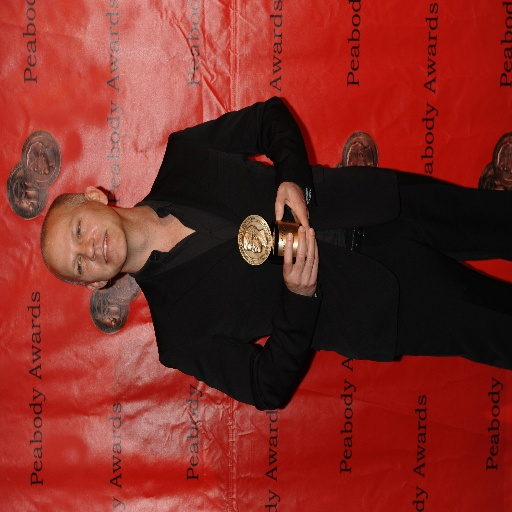hand: (275, 181, 309, 255)
